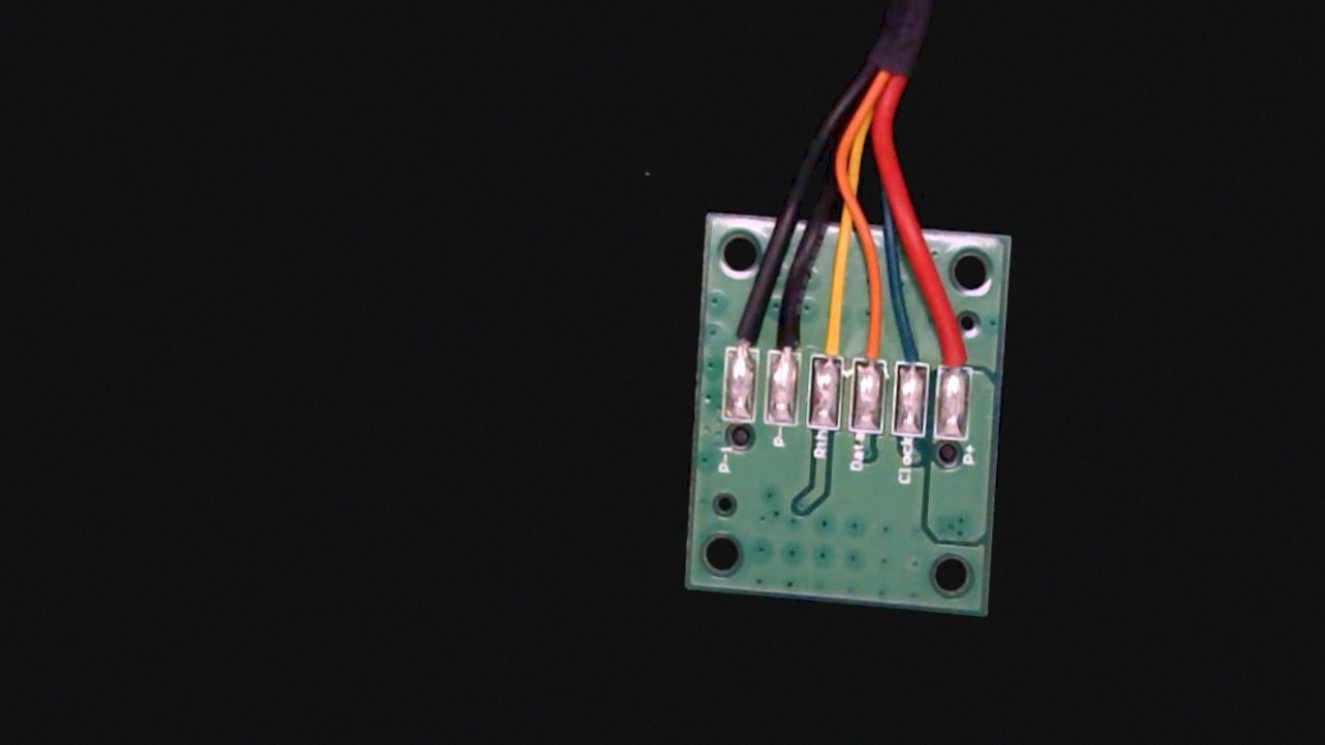Black: (765, 305, 805, 374)
Black1: (724, 300, 761, 371)
Green: (892, 317, 935, 385)
Orange: (852, 303, 892, 382)
Red: (934, 312, 975, 392)
Yellow: (808, 303, 847, 376)
